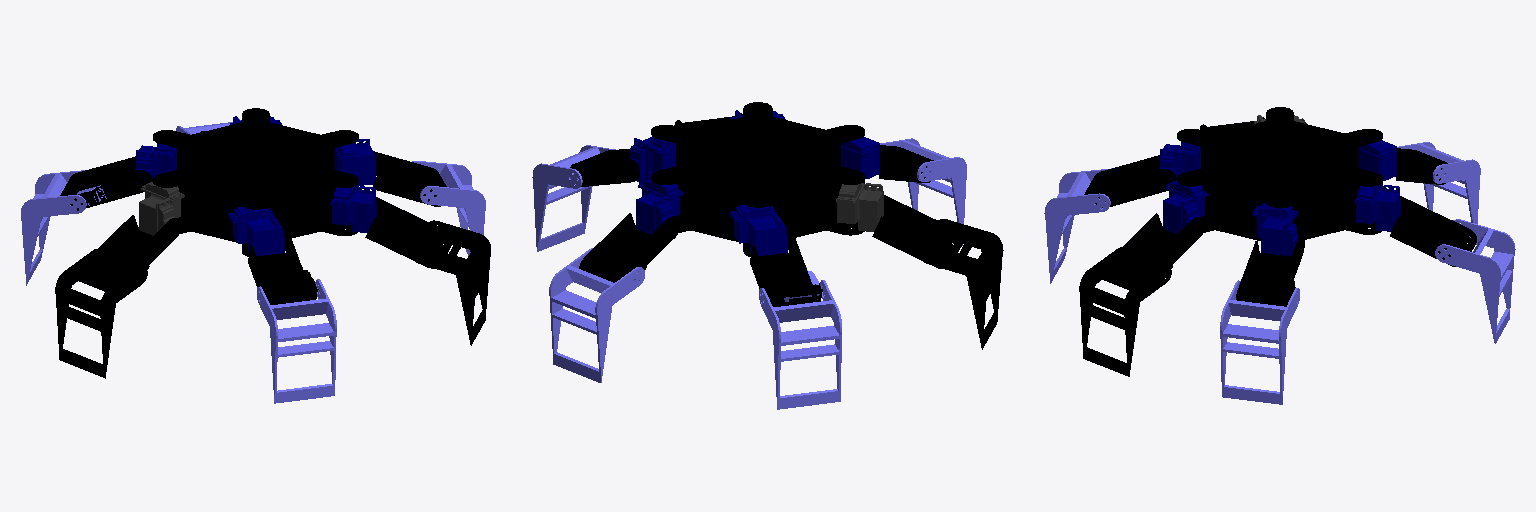
--- Facts derived from the render (not from the file) ---
3 views of the same robot in one strip: view 1: azimuth 30°, elevation 25°; view 2: azimuth 150°, elevation 25°; view 3: azimuth 270°, elevation 25° (orthographic).
Model Hexybot with 19 links and 18 joints (18 revolute), rooted at base_link, posed all joints at 0.
Visible links, largest first — view 1: base_link, 4_3, 5_3, 6_3, 4_2, 3_3, 5_2, 6_2, 1_3, 3_2, 1_2, 5_1 (+4 smaller); view 2: base_link, 2_3, 3_3, 4_3, 2_2, 1_3, 4_2, 3_2, 5_3, 3_1, 4_1, 1_2 (+4 smaller); view 3: base_link, 6_3, 1_3, 2_3, 6_2, 5_3, 1_2, 2_2, 5_2, 3_3, 1_1, 2_1 (+4 smaller).
Link boxes in pixels (left/top/right/bottom): base_link: left=153, top=108, right=358, bottom=256; 4_3: left=55, top=249, right=147, bottom=378; 5_3: left=257, top=279, right=336, bottom=403; 6_3: left=411, top=220, right=490, bottom=345; 4_2: left=84, top=215, right=181, bottom=281; 3_3: left=21, top=170, right=106, bottom=285; 5_2: left=248, top=230, right=318, bottom=304; 6_2: left=365, top=197, right=452, bottom=268; 1_3: left=412, top=161, right=485, bottom=255; 3_2: left=60, top=156, right=152, bottom=210; 1_2: left=373, top=151, right=446, bottom=206; 5_1: left=228, top=207, right=284, bottom=255; base_link: left=651, top=102, right=864, bottom=256; 2_3: left=549, top=248, right=644, bottom=382; 3_3: left=759, top=267, right=841, bottom=409; 4_3: left=920, top=219, right=1003, bottom=349; 2_2: left=579, top=213, right=680, bottom=282; 1_3: left=532, top=145, right=615, bottom=251; 4_2: left=872, top=195, right=962, bottom=268; 3_2: left=750, top=229, right=822, bottom=306; 5_3: left=880, top=138, right=966, bottom=245; 3_1: left=729, top=205, right=789, bottom=255; 4_1: left=836, top=183, right=883, bottom=231; 1_2: left=570, top=148, right=639, bottom=186; base_link: left=1177, top=107, right=1382, bottom=240; 6_3: left=1079, top=247, right=1171, bottom=376; 1_3: left=1220, top=280, right=1299, bottom=404; 2_3: left=1435, top=219, right=1515, bottom=343; 6_2: left=1108, top=213, right=1205, bottom=280; 5_3: left=1044, top=168, right=1111, bottom=283; 1_2: left=1236, top=236, right=1304, bottom=306; 2_2: left=1390, top=196, right=1476, bottom=266; 5_2: left=1084, top=155, right=1176, bottom=207; 3_3: left=1397, top=142, right=1480, bottom=244; 1_1: left=1252, top=202, right=1298, bottom=256; 2_1: left=1354, top=184, right=1400, bottom=231.
Size in the robot's own frame: 0.629 by 0.6009 by 0.2071 metres.
Meshes: 19 distinct files referenced, 19 mesh visuals loaded (19 binary STL).

URDF robot description (Hexybot):
<?xml version="1.0" encoding="utf-8"?>
<!-- This URDF was automatically created by SolidWorks to URDF Exporter! Originally created by Stephen Brawner ([email redacted]) 
     Commit Version: 1.6.0-4-g7f85cfe  Build Version: 1.6.7995.38578
     For more information, please see http://wiki.ros.org/sw_urdf_exporter -->
<robot
  name="Hexybot">
  <link
    name="base_link">
    <inertial>
      <origin
        xyz="-0.0362961482107395 -0.016136099480918 -0.0302238925968727"
        rpy="0 0 0" />
      <mass
        value="0.348716563629928" />
      <inertia
        ixx="0.00121632161547816"
        ixy="2.63771405343575E-08"
        ixz="8.94666769589299E-10"
        iyy="0.00121689714148571"
        iyz="-2.13592556940495E-08"
        izz="0.00241755683271426" />
    </inertial>
    <visual>
      <origin
        xyz="0 0 0"
        rpy="0 0 0" />
      <geometry>
        <mesh
          filename="package://Hexybot/meshes/base_link.STL" />
      </geometry>
      <material
        name="">
        <color
          rgba="0 0 0 1" />
      </material>
    </visual>
    <collision>
      <origin
        xyz="0 0 0"
        rpy="0 0 0" />
      <geometry>
        <mesh
          filename="package://Hexybot/meshes/base_link.STL" />
      </geometry>
    </collision>
  </link>
  <link
    name="1_1">
    <inertial>
      <origin
        xyz="-0.0324143971560813 -0.0119954828073387 5.41790912282417E-05"
        rpy="0 0 0" />
      <mass
        value="0.0831083959766699" />
      <inertia
        ixx="1.83854901396944E-05"
        ixy="-1.04764195649455E-06"
        ixz="-3.95555025497812E-07"
        iyy="2.5253002001055E-05"
        iyz="-9.35099460279389E-07"
        izz="1.84595866059747E-05" />
    </inertial>
    <visual>
      <origin
        xyz="0 0 0"
        rpy="0 0 0" />
      <geometry>
        <mesh
          filename="package://Hexybot/meshes/1_1.STL" />
      </geometry>
      <material
        name="">
        <color
          rgba="0 0 0.501960784313725 1" />
      </material>
    </visual>
    <collision>
      <origin
        xyz="0 0 0"
        rpy="0 0 0" />
      <geometry>
        <mesh
          filename="package://Hexybot/meshes/1_1.STL" />
      </geometry>
    </collision>
  </link>
  <joint
    name="base_1_1"
    type="revolute">
    <origin
      xyz="0.09573 -0.016152 0"
      rpy="1.281 -1.5708 0" />
    <parent
      link="base_link" />
    <child
      link="1_1" />
    <axis
      xyz="1 0 0" />
    <limit
      lower="0"
      upper="0"
      effort="0"
      velocity="0" />
  </joint>
  <link
    name="1_2">
    <inertial>
      <origin
        xyz="-0.0660480250727562 0.00267607742551941 -0.0134131085256413"
        rpy="0 0 0" />
      <mass
        value="0.10621838803" />
      <inertia
        ixx="3.65898938174288E-05"
        ixy="1.99420519310336E-06"
        ixz="3.68956436722859E-06"
        iyy="8.57401070624248E-05"
        iyz="-1.48833773537329E-07"
        izz="6.57787261558976E-05" />
    </inertial>
    <visual>
      <origin
        xyz="0 0 0"
        rpy="0 0 0" />
      <geometry>
        <mesh
          filename="package://Hexybot/meshes/1_2.STL" />
      </geometry>
      <material
        name="">
        <color
          rgba="0 0 0 1" />
      </material>
    </visual>
    <collision>
      <origin
        xyz="0 0 0"
        rpy="0 0 0" />
      <geometry>
        <mesh
          filename="package://Hexybot/meshes/1_2.STL" />
      </geometry>
    </collision>
  </link>
  <joint
    name="1_1_1_2"
    type="revolute">
    <origin
      xyz="-0.045127 -0.024 0"
      rpy="0 0 1.2224" />
    <parent
      link="1_1" />
    <child
      link="1_2" />
    <axis
      xyz="0 0 1" />
    <limit
      lower="0"
      upper="0"
      effort="0"
      velocity="0" />
  </joint>
  <link
    name="1_3">
    <inertial>
      <origin
        xyz="-0.0522325679209618 -0.0181507220987475 0.0143077407854749"
        rpy="0 0 0" />
      <mass
        value="0.0518261116830356" />
      <inertia
        ixx="7.91190176311023E-05"
        ixy="-2.09235102995172E-05"
        ixz="6.09863722023096E-20"
        iyy="6.70169800836734E-05"
        iyz="7.41153828847513E-20"
        izz="5.8890613746851E-05" />
    </inertial>
    <visual>
      <origin
        xyz="0 0 0"
        rpy="0 0 0" />
      <geometry>
        <mesh
          filename="package://Hexybot/meshes/1_3.STL" />
      </geometry>
      <material
        name="">
        <color
          rgba="0.501960784313725 0.501960784313725 1 1" />
      </material>
    </visual>
    <collision>
      <origin
        xyz="0 0 0"
        rpy="0 0 0" />
      <geometry>
        <mesh
          filename="package://Hexybot/meshes/1_3.STL" />
      </geometry>
    </collision>
  </link>
  <joint
    name="1_2_1_3"
    type="revolute">
    <origin
      xyz="-0.086966 0.003523 0"
      rpy="-3.1416 0 0.13813" />
    <parent
      link="1_2" />
    <child
      link="1_3" />
    <axis
      xyz="0 0 -1" />
    <limit
      lower="0"
      upper="0"
      effort="0"
      velocity="0" />
  </joint>
  <link
    name="2_1">
    <inertial>
      <origin
        xyz="0.00611022556989236 -0.0103227758517485 0.0358313941760022"
        rpy="0 0 0" />
      <mass
        value="0.083108415470142" />
      <inertia
        ixx="2.10110599159992E-05"
        ixy="-3.42017694293567E-06"
        ixz="-1.88260753834009E-07"
        iyy="2.2701537722076E-05"
        iyz="1.10389216606998E-06"
        izz="1.8385491988511E-05" />
    </inertial>
    <visual>
      <origin
        xyz="0 0 0"
        rpy="0 0 0" />
      <geometry>
        <mesh
          filename="package://Hexybot/meshes/2_1.STL" />
      </geometry>
      <material
        name="">
        <color
          rgba="0 0 0.501960784313725 1" />
      </material>
    </visual>
    <collision>
      <origin
        xyz="0 0 0"
        rpy="0 0 0" />
      <geometry>
        <mesh
          filename="package://Hexybot/meshes/2_1.STL" />
      </geometry>
    </collision>
  </link>
  <joint
    name="base_2_1"
    type="revolute">
    <origin
      xyz="0.029635 0.098129 0.003417"
      rpy="3.1416 0 0.29616" />
    <parent
      link="base_link" />
    <child
      link="2_1" />
    <axis
      xyz="0 0 -1" />
    <limit
      lower="0"
      upper="0"
      effort="0"
      velocity="0" />
  </joint>
  <link
    name="2_2">
    <inertial>
      <origin
        xyz="-0.0660480250727568 0.00267607742552023 0.021575178588893"
        rpy="0 0 0" />
      <mass
        value="0.10621838803" />
      <inertia
        ixx="3.65898938174288E-05"
        ixy="1.99420519310338E-06"
        ixz="3.68956436722858E-06"
        iyy="8.57401070624247E-05"
        iyz="-1.48833773537327E-07"
        izz="6.57787261558976E-05" />
    </inertial>
    <visual>
      <origin
        xyz="0 0 0"
        rpy="0 0 0" />
      <geometry>
        <mesh
          filename="package://Hexybot/meshes/2_2.STL" />
      </geometry>
      <material
        name="">
        <color
          rgba="0 0 0 1" />
      </material>
    </visual>
    <collision>
      <origin
        xyz="0 0 0"
        rpy="0 0 0" />
      <geometry>
        <mesh
          filename="package://Hexybot/meshes/2_2.STL" />
      </geometry>
    </collision>
  </link>
  <joint
    name="2_1_2_2"
    type="revolute">
    <origin
      xyz="-0.018058 -0.038394 0.048544"
      rpy="1.5708 0.3484 2.1007" />
    <parent
      link="2_1" />
    <child
      link="2_2" />
    <axis
      xyz="0 0 1" />
    <limit
      lower="0"
      upper="0"
      effort="0"
      velocity="0" />
  </joint>
  <link
    name="2_3">
    <inertial>
      <origin
        xyz="0.0262375892873183 -0.0499566115985929 0.037406002217721"
        rpy="0 0 0" />
      <mass
        value="0.0518261116830355" />
      <inertia
        ixx="9.45809223489306E-05"
        ixy="-1.53236541738029E-06"
        ixz="2.74142208663149E-06"
        iyy="5.13932191137728E-05"
        iyz="-7.24703577889787E-07"
        izz="5.90524699989238E-05" />
    </inertial>
    <visual>
      <origin
        xyz="0 0 0"
        rpy="0 0 0" />
      <geometry>
        <mesh
          filename="package://Hexybot/meshes/2_3.STL" />
      </geometry>
      <material
        name="">
        <color
          rgba="0.501960784313725 0.501960784313725 1 1" />
      </material>
    </visual>
    <collision>
      <origin
        xyz="0 0 0"
        rpy="0 0 0" />
      <geometry>
        <mesh
          filename="package://Hexybot/meshes/2_3.STL" />
      </geometry>
    </collision>
  </link>
  <joint
    name="2_2_2_3"
    type="revolute">
    <origin
      xyz="-0.086966 0.003523 -0.018378"
      rpy="-0.080086 0.07983 -2.3287" />
    <parent
      link="2_2" />
    <child
      link="2_3" />
    <axis
      xyz="0 0 1" />
    <limit
      lower="0"
      upper="0"
      effort="0"
      velocity="0" />
  </joint>
  <link
    name="3_1">
    <inertial>
      <origin
        xyz="0.00460363462952386 -0.0110770543568071 -0.0358313912874928"
        rpy="0 0 0" />
      <mass
        value="0.0831083830671431" />
      <inertia
        ixx="1.8813285240212E-05"
        ixy="-1.77542608592108E-06"
        ixz="7.71001818608903E-07"
        iyy="2.48992998166613E-05"
        iyz="-8.12140807099101E-07"
        izz="1.8385488766488E-05" />
    </inertial>
    <visual>
      <origin
        xyz="0 0 0"
        rpy="0 0 0" />
      <geometry>
        <mesh
          filename="package://Hexybot/meshes/3_1.STL" />
      </geometry>
      <material
        name="">
        <color
          rgba="0 0 0.501960784313725 1" />
      </material>
    </visual>
    <collision>
      <origin
        xyz="0 0 0"
        rpy="0 0 0" />
      <geometry>
        <mesh
          filename="package://Hexybot/meshes/3_1.STL" />
      </geometry>
    </collision>
  </link>
  <joint
    name="base_3_1"
    type="revolute">
    <origin
      xyz="-0.10238 0.098029 0.003417"
      rpy="0 0 -2.7266" />
    <parent
      link="base_link" />
    <child
      link="3_1" />
    <axis
      xyz="0 0 1" />
    <limit
      lower="0"
      upper="0"
      effort="0"
      velocity="0" />
  </joint>
  <link
    name="3_2">
    <inertial>
      <origin
        xyz="-0.0660480250727568 0.0026760774255206 0.0215751785888917"
        rpy="0 0 0" />
      <mass
        value="0.10621838803" />
      <inertia
        ixx="3.65898938174288E-05"
        ixy="1.99420519310336E-06"
        ixz="3.68956436722863E-06"
        iyy="8.57401070624249E-05"
        iyz="-1.48833773537324E-07"
        izz="6.57787261558977E-05" />
    </inertial>
    <visual>
      <origin
        xyz="0 0 0"
        rpy="0 0 0" />
      <geometry>
        <mesh
          filename="package://Hexybot/meshes/3_2.STL" />
      </geometry>
      <material
        name="">
        <color
          rgba="0 0 0 1" />
      </material>
    </visual>
    <collision>
      <origin
        xyz="0 0 0"
        rpy="0 0 0" />
      <geometry>
        <mesh
          filename="package://Hexybot/meshes/3_2.STL" />
      </geometry>
    </collision>
  </link>
  <joint
    name="31_32"
    type="revolute">
    <origin
      xyz="0.041559 -0.0085469 -0.048544"
      rpy="-1.5708 -0.3484 1.9692" />
    <parent
      link="3_1" />
    <child
      link="3_2" />
    <axis
      xyz="0 0 1" />
    <limit
      lower="0"
      upper="0"
      effort="0"
      velocity="0" />
  </joint>
  <link
    name="3_3">
    <inertial>
      <origin
        xyz="-0.0216931488507502 -0.0273633121592585 0.0312418999195549"
        rpy="0 0 0" />
      <mass
        value="0.0853915174486207" />
      <inertia
        ixx="6.50391211473026E-05"
        ixy="-1.49736834579984E-05"
        ixz="-1.23549168120841E-06"
        iyy="9.70313671788989E-05"
        iyz="1.27849804853764E-06"
        izz="6.46777909583075E-05" />
    </inertial>
    <visual>
      <origin
        xyz="0 0 0"
        rpy="0 0 0" />
      <geometry>
        <mesh
          filename="package://Hexybot/meshes/3_3.STL" />
      </geometry>
      <material
        name="">
        <color
          rgba="0.501960784313725 0.501960784313725 1 1" />
      </material>
    </visual>
    <collision>
      <origin
        xyz="0 0 0"
        rpy="0 0 0" />
      <geometry>
        <mesh
          filename="package://Hexybot/meshes/3_3.STL" />
      </geometry>
    </collision>
  </link>
  <joint
    name="32_33"
    type="revolute">
    <origin
      xyz="-0.086966 0.003523 -0.018378"
      rpy="-0.080086 0.07983 -1.1257" />
    <parent
      link="3_2" />
    <child
      link="3_3" />
    <axis
      xyz="0 0 1" />
    <limit
      lower="0"
      upper="0"
      effort="0"
      velocity="0" />
  </joint>
  <link
    name="4_1">
    <inertial>
      <origin
        xyz="0.00814143247399191 0.00880974576401097 -0.035831391114241"
        rpy="0 0 0" />
      <mass
        value="0.0831083959766699" />
      <inertia
        ixx="2.24897917069097E-05"
        ixy="3.4656478792623E-06"
        ixz="4.15842704022568E-07"
        iyy="2.12227969001201E-05"
        iyz="1.03975588130845E-06"
        izz="1.83854901396944E-05" />
    </inertial>
    <visual>
      <origin
        xyz="0 0 0"
        rpy="0 0 0" />
      <geometry>
        <mesh
          filename="package://Hexybot/meshes/4_1.STL" />
      </geometry>
      <material
        name="">
        <color
          rgba="0.250980392156863 0.250980392156863 0.250980392156863 1" />
      </material>
    </visual>
    <collision>
      <origin
        xyz="0 0 0"
        rpy="0 0 0" />
      <geometry>
        <mesh
          filename="package://Hexybot/meshes/4_1.STL" />
      </geometry>
    </collision>
  </link>
  <joint
    name="base_41"
    type="revolute">
    <origin
      xyz="-0.1683 -0.016351 0.003417"
      rpy="0 0 2.6021" />
    <parent
      link="base_link" />
    <child
      link="4_1" />
    <axis
      xyz="0 0 1" />
    <limit
      lower="0"
      upper="0"
      effort="0"
      velocity="0" />
  </joint>
  <link
    name="4_2">
    <inertial>
      <origin
        xyz="-0.0660480250727571 0.00267607742552119 0.021575178588893"
        rpy="0 0 0" />
      <mass
        value="0.10621838803" />
      <inertia
        ixx="3.65898938174288E-05"
        ixy="1.99420519310338E-06"
        ixz="3.68956436722859E-06"
        iyy="8.57401070624249E-05"
        iyz="-1.48833773537329E-07"
        izz="6.57787261558977E-05" />
    </inertial>
    <visual>
      <origin
        xyz="0 0 0"
        rpy="0 0 0" />
      <geometry>
        <mesh
          filename="package://Hexybot/meshes/4_2.STL" />
      </geometry>
      <material
        name="">
        <color
          rgba="0 0 0 1" />
      </material>
    </visual>
    <collision>
      <origin
        xyz="0 0 0"
        rpy="0 0 0" />
      <geometry>
        <mesh
          filename="package://Hexybot/meshes/4_2.STL" />
      </geometry>
    </collision>
  </link>
  <joint
    name="41_42"
    type="revolute">
    <origin
      xyz="-0.0095938 0.04133 -0.048544"
      rpy="-1.5708 -0.3484 -2.3123" />
    <parent
      link="4_1" />
    <child
      link="4_2" />
    <axis
      xyz="0 0 1" />
    <limit
      lower="0"
      upper="0"
      effort="0"
      velocity="0" />
  </joint>
  <link
    name="4_3">
    <inertial>
      <origin
        xyz="0.0546620164491392 -0.00835187536053078 0.0390588437055052"
        rpy="0 0 0" />
      <mass
        value="0.0518261116830356" />
      <inertia
        ixx="7.12376296761462E-05"
        ixy="2.17038673999407E-05"
        ixz="1.6940658945086E-19"
        iyy="7.48983680386295E-05"
        iyz="-8.21621958836671E-20"
        izz="5.88906137468511E-05" />
    </inertial>
    <visual>
      <origin
        xyz="0 0 0"
        rpy="0 0 0" />
      <geometry>
        <mesh
          filename="package://Hexybot/meshes/4_3.STL" />
      </geometry>
      <material
        name="">
        <color
          rgba="0 0 0 1" />
      </material>
    </visual>
    <collision>
      <origin
        xyz="0 0 0"
        rpy="0 0 0" />
      <geometry>
        <mesh
          filename="package://Hexybot/meshes/4_3.STL" />
      </geometry>
    </collision>
  </link>
  <joint
    name="42_43"
    type="revolute">
    <origin
      xyz="-0.086966 0.003523 -0.018378"
      rpy="0 0 3.0969" />
    <parent
      link="4_2" />
    <child
      link="4_3" />
    <axis
      xyz="0 0 1" />
    <limit
      lower="0"
      upper="0"
      effort="0"
      velocity="0" />
  </joint>
  <link
    name="5_1">
    <inertial>
      <origin
        xyz="0.0090867000834764 -0.00783111993225499 -0.0358313941760022"
        rpy="0 0 0" />
      <mass
        value="0.0831084154701419" />
      <inertia
        ixx="2.14644758829927E-05"
        ixy="-3.5012160617402E-06"
        ixz="1.05354903212547E-06"
        iyy="2.22481217550825E-05"
        iyz="-3.79545073281566E-07"
        izz="1.8385491988511E-05" />
    </inertial>
    <visual>
      <origin
        xyz="0 0 0"
        rpy="0 0 0" />
      <geometry>
        <mesh
          filename="package://Hexybot/meshes/5_1.STL" />
      </geometry>
      <material
        name="">
        <color
          rgba="0 0 0.501960784313725 1" />
      </material>
    </visual>
    <collision>
      <origin
        xyz="0 0 0"
        rpy="0 0 0" />
      <geometry>
        <mesh
          filename="package://Hexybot/meshes/5_1.STL" />
      </geometry>
    </collision>
  </link>
  <joint
    name="base_5_1"
    type="revolute">
    <origin
      xyz="-0.10221 -0.13063 0.003417"
      rpy="0 0 -1.0978" />
    <parent
      link="base_link" />
    <child
      link="5_1" />
    <axis
      xyz="0 0 1" />
    <limit
      lower="0"
      upper="0"
      effort="0"
      velocity="0" />
  </joint>
  <link
    name="5_2">
    <inertial>
      <origin
        xyz="-0.0660480250727571 0.00267607742552095 0.0215751785888923"
        rpy="0 0 0" />
      <mass
        value="0.10621838803" />
      <inertia
        ixx="3.65898938174288E-05"
        ixy="1.99420519310327E-06"
        ixz="3.68956436722855E-06"
        iyy="8.57401070624247E-05"
        iyz="-1.48833773537322E-07"
        izz="6.57787261558976E-05" />
    </inertial>
    <visual>
      <origin
        xyz="0 0 0"
        rpy="0 0 0" />
      <geometry>
        <mesh
          filename="package://Hexybot/meshes/5_2.STL" />
      </geometry>
      <material
        name="">
        <color
          rgba="0 0 0 1" />
      </material>
    </visual>
    <collision>
      <origin
        xyz="0 0 0"
        rpy="0 0 0" />
      <geometry>
        <mesh
          filename="package://Hexybot/meshes/5_2.STL" />
      </geometry>
    </collision>
  </link>
  <joint
    name="51_52"
    type="revolute">
    <origin
      xyz="0.040972 0.011021 -0.048544"
      rpy="-1.5708 -0.3484 2.4348" />
    <parent
      link="5_1" />
    <child
      link="5_2" />
    <axis
      xyz="0 0 1" />
    <limit
      lower="0"
      upper="0"
      effort="0"
      velocity="0" />
  </joint>
  <link
    name="5_3">
    <inertial>
      <origin
        xyz="-0.0344910087453941 -0.0482316240416505 0.03267053556287"
        rpy="0 0 0" />
      <mass
        value="0.0518261116830355" />
      <inertia
        ixx="5.70985073395734E-05"
        ixy="-1.46933395018034E-05"
        ixz="-1.32307631284402E-06"
        iyy="8.90440945914106E-05"
        iyz="1.24078820291747E-06"
        izz="5.88840095306425E-05" />
    </inertial>
    <visual>
      <origin
        xyz="0 0 0"
        rpy="0 0 0" />
      <geometry>
        <mesh
          filename="package://Hexybot/meshes/5_3.STL" />
      </geometry>
      <material
        name="">
        <color
          rgba="0.501960784313725 0.501960784313725 1 1" />
      </material>
    </visual>
    <collision>
      <origin
        xyz="0 0 0"
        rpy="0 0 0" />
      <geometry>
        <mesh
          filename="package://Hexybot/meshes/5_3.STL" />
      </geometry>
    </collision>
  </link>
  <joint
    name="52_53"
    type="revolute">
    <origin
      xyz="-0.086966 0.003523 -0.018378"
      rpy="-0.080086 0.07983 -1.1615" />
    <parent
      link="5_2" />
    <child
      link="5_3" />
    <axis
      xyz="0 0 1" />
    <limit
      lower="0"
      upper="0"
      effort="0"
      velocity="0" />
  </joint>
  <link
    name="6_1">
    <inertial>
      <origin
        xyz="0.00360844500803981 0.0114400047923838 -0.0358313912874929"
        rpy="0 0 0" />
      <mass
        value="0.0831083830671431" />
      <inertia
        ixx="1.95864079177999E-05"
        ixy="2.69437469501781E-06"
        ixz="-6.71378891696633E-08"
        iyy="2.41261771390733E-05"
        iyz="1.1178143847221E-06"
        izz="1.8385488766488E-05" />
    </inertial>
    <visual>
      <origin
        xyz="0 0 0"
        rpy="0 0 0" />
      <geometry>
        <mesh
          filename="package://Hexybot/meshes/6_1.STL" />
      </geometry>
      <material
        name="">
        <color
          rgba="0 0 0.501960784313725 1" />
      </material>
    </visual>
    <collision>
      <origin
        xyz="0 0 0"
        rpy="0 0 0" />
      <geometry>
        <mesh
          filename="package://Hexybot/meshes/6_1.STL" />
      </geometry>
    </collision>
  </link>
  <joint
    name="base_61"
    type="revolute">
    <origin
      xyz="0.029807 -0.13053 0.003417"
      rpy="0 0 -2.0271" />
    <parent
      link="base_link" />
    <child
      link="6_1" />
    <axis
      xyz="0 0 1" />
    <limit
      lower="0"
      upper="0"
      effort="0"
      velocity="0" />
  </joint>
  <link
    name="6_2">
    <inertial>
      <origin
        xyz="-0.066048025072757 0.00267607742552109 0.0215751785888921"
        rpy="0 0 0" />
      <mass
        value="0.10621838803" />
      <inertia
        ixx="3.65898938174288E-05"
        ixy="1.99420519310337E-06"
        ixz="3.68956436722863E-06"
        iyy="8.57401070624248E-05"
        iyz="-1.48833773537313E-07"
        izz="6.57787261558976E-05" />
    </inertial>
    <visual>
      <origin
        xyz="0 0 0"
        rpy="0 0 0" />
      <geometry>
        <mesh
          filename="package://Hexybot/meshes/6_2.STL" />
      </geometry>
      <material
        name="">
        <color
          rgba="0 0 0 1" />
      </material>
    </visual>
    <collision>
      <origin
        xyz="0 0 0"
        rpy="0 0 0" />
      <geometry>
        <mesh
          filename="package://Hexybot/meshes/6_2.STL" />
      </geometry>
    </collision>
  </link>
  <joint
    name="61_62"
    type="revolute">
    <origin
      xyz="-0.026299 0.033295 -0.048544"
      rpy="-1.5708 -0.3484 -1.8718" />
    <parent
      link="6_1" />
    <child
      link="6_2" />
    <axis
      xyz="0 0 1" />
    <limit
      lower="0"
      upper="0"
      effort="0"
      velocity="0" />
  </joint>
  <link
    name="6_3">
    <inertial>
      <origin
        xyz="0.0546620164491395 -0.00835187536053049 0.0390588437055033"
        rpy="0 0 0" />
      <mass
        value="0.0518261116830355" />
      <inertia
        ixx="7.12376296761461E-05"
        ixy="2.17038673999407E-05"
        ixz="-8.470329472543E-21"
        iyy="7.48983680386294E-05"
        iyz="1.14349447879331E-19"
        izz="5.88906137468511E-05" />
    </inertial>
    <visual>
      <origin
        xyz="0 0 0"
        rpy="0 0 0" />
      <geometry>
        <mesh
          filename="package://Hexybot/meshes/6_3.STL" />
      </geometry>
      <material
        name="">
        <color
          rgba="0 0 0 1" />
      </material>
    </visual>
    <collision>
      <origin
        xyz="0 0 0"
        rpy="0 0 0" />
      <geometry>
        <mesh
          filename="package://Hexybot/meshes/6_3.STL" />
      </geometry>
    </collision>
  </link>
  <joint
    name="62_63"
    type="revolute">
    <origin
      xyz="-0.086966 0.003523 -0.018378"
      rpy="0 0 3.0969" />
    <parent
      link="6_2" />
    <child
      link="6_3" />
    <axis
      xyz="0 0 1" />
    <limit
      lower="0"
      upper="0"
      effort="0"
      velocity="0" />
  </joint>
</robot>
